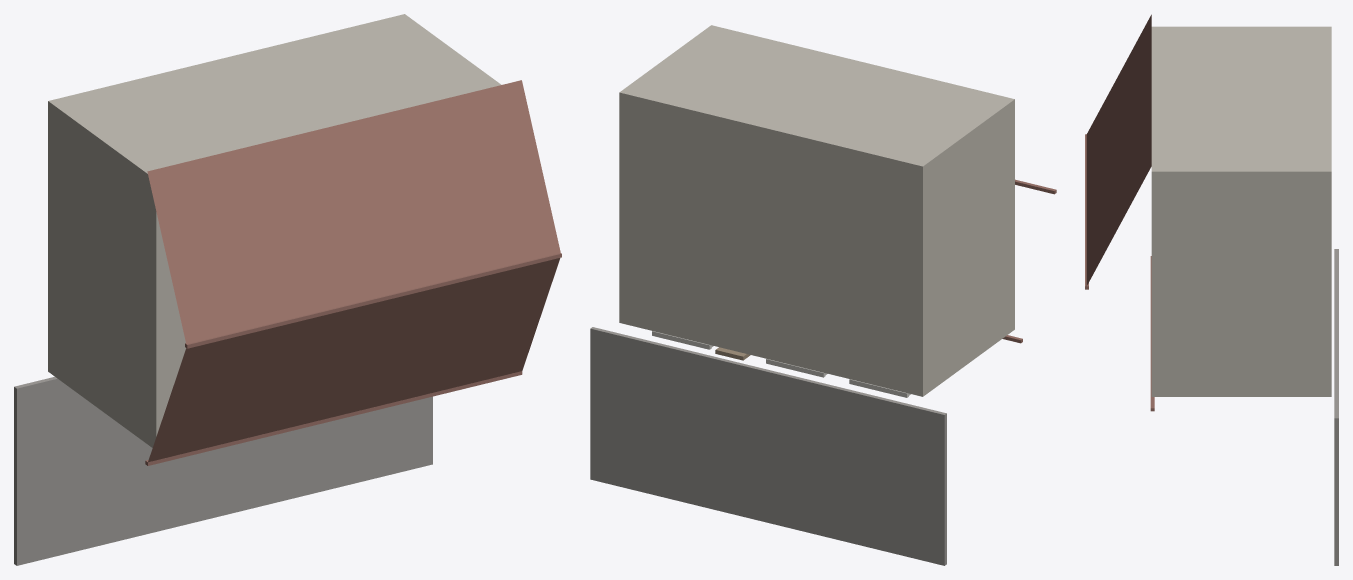
Rendered from pizzeria_napoli_vrigstad_study.glb.
The picture shows the model from 3 angles, left to right: view 1: azimuth 30°, elevation 25°; view 2: azimuth 150°, elevation 25°; view 3: azimuth 270°, elevation 25°; orthographic projection. The views are drawn at different scales.
Visible parts, largest first — view 1: gable_roof_plane_1, wall, terrace_paving, gable_roof_plane_0, gable_gutter_1, gable_gutter_0; view 2: wall, terrace_paving; view 3: wall, gable_roof_plane_1, terrace_paving, gable_gutter_0.
Boxes of the visible parts, <box> form: gable_roof_plane_1: <box>147,80,560,344</box>; wall: <box>48,14,501,447</box>; terrace_paving: <box>14,376,432,565</box>; gable_roof_plane_0: <box>148,258,560,462</box>; gable_gutter_1: <box>185,253,561,348</box>; gable_gutter_0: <box>145,371,522,465</box>; wall: <box>619,25,1014,396</box>; terrace_paving: <box>590,327,946,565</box>; wall: <box>1151,26,1331,396</box>; gable_roof_plane_1: <box>1086,14,1151,285</box>; terrace_paving: <box>1334,249,1338,565</box>; gable_gutter_0: <box>1150,256,1154,411</box>.
Size of the model in its own units: 14 by 15.1 by 8.88.
